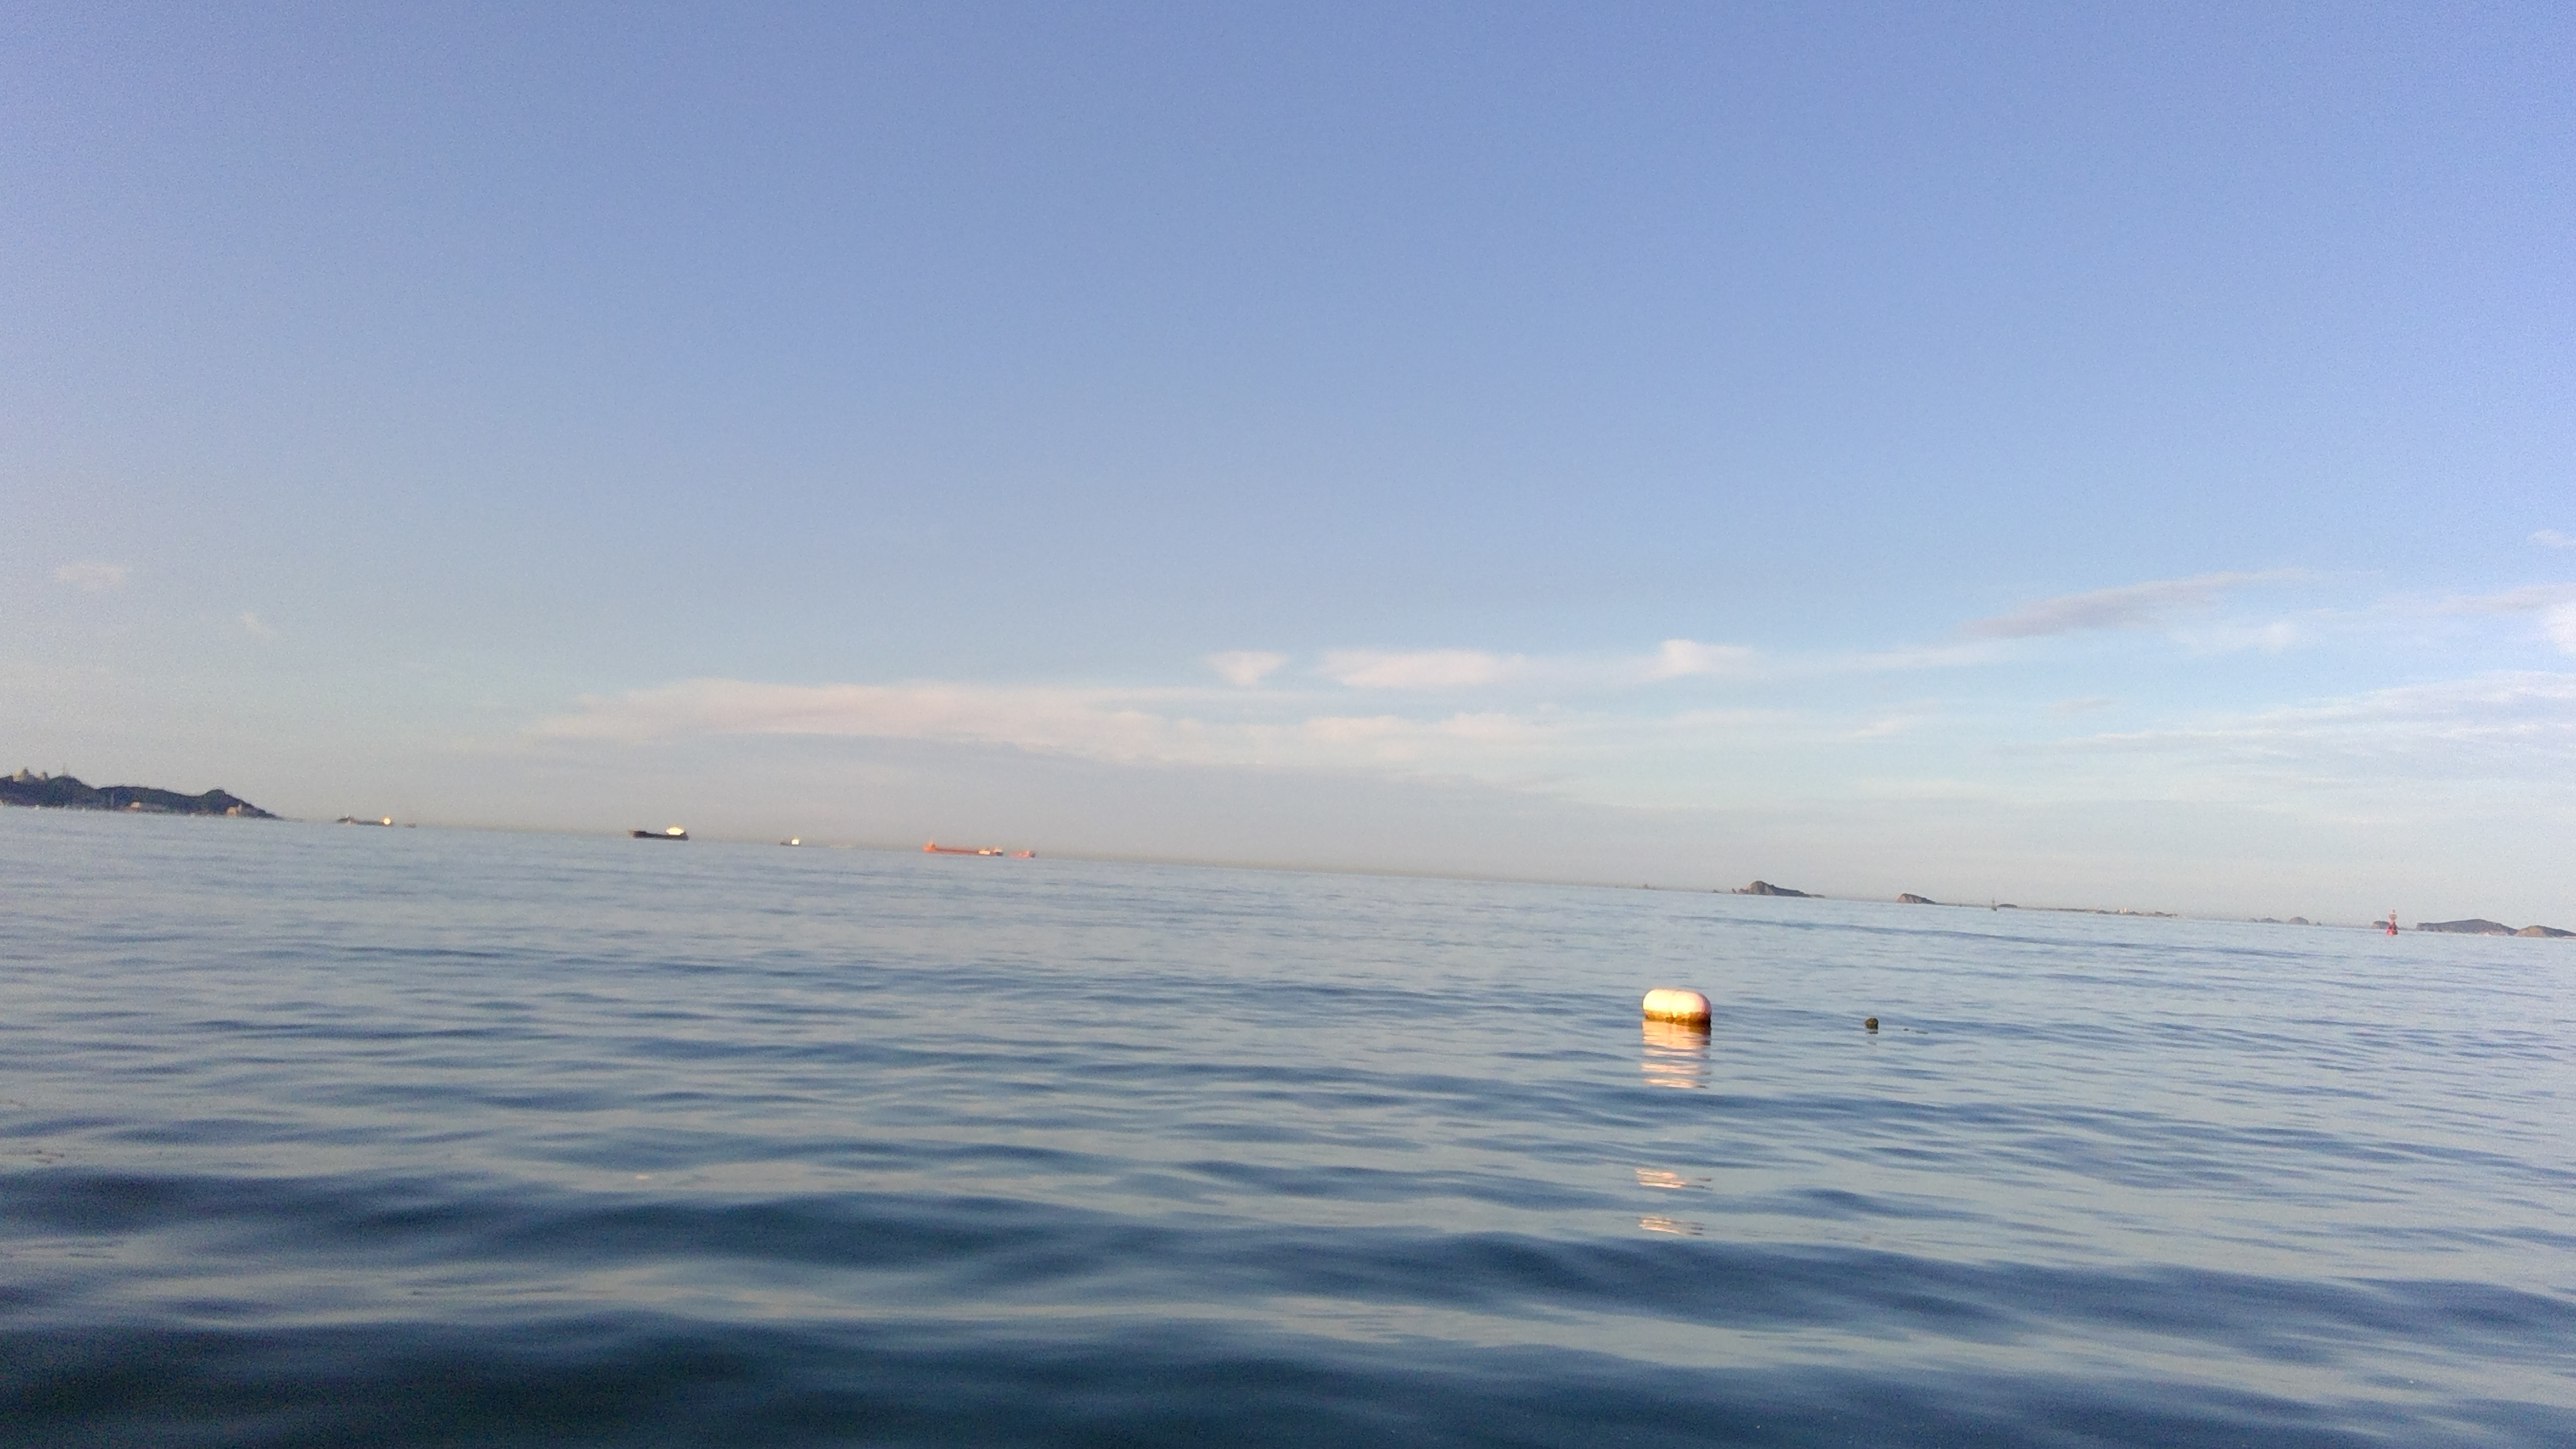buoy: (2373, 906, 2404, 943)
platform: (920, 826, 1049, 867)
rock: (0, 761, 288, 828), (2422, 902, 2576, 957), (1631, 977, 1734, 1054), (1729, 863, 1829, 901), (1886, 883, 1936, 916)
rubbish: (1852, 1014, 1891, 1042)
ship: (343, 798, 414, 837), (633, 814, 692, 844)
